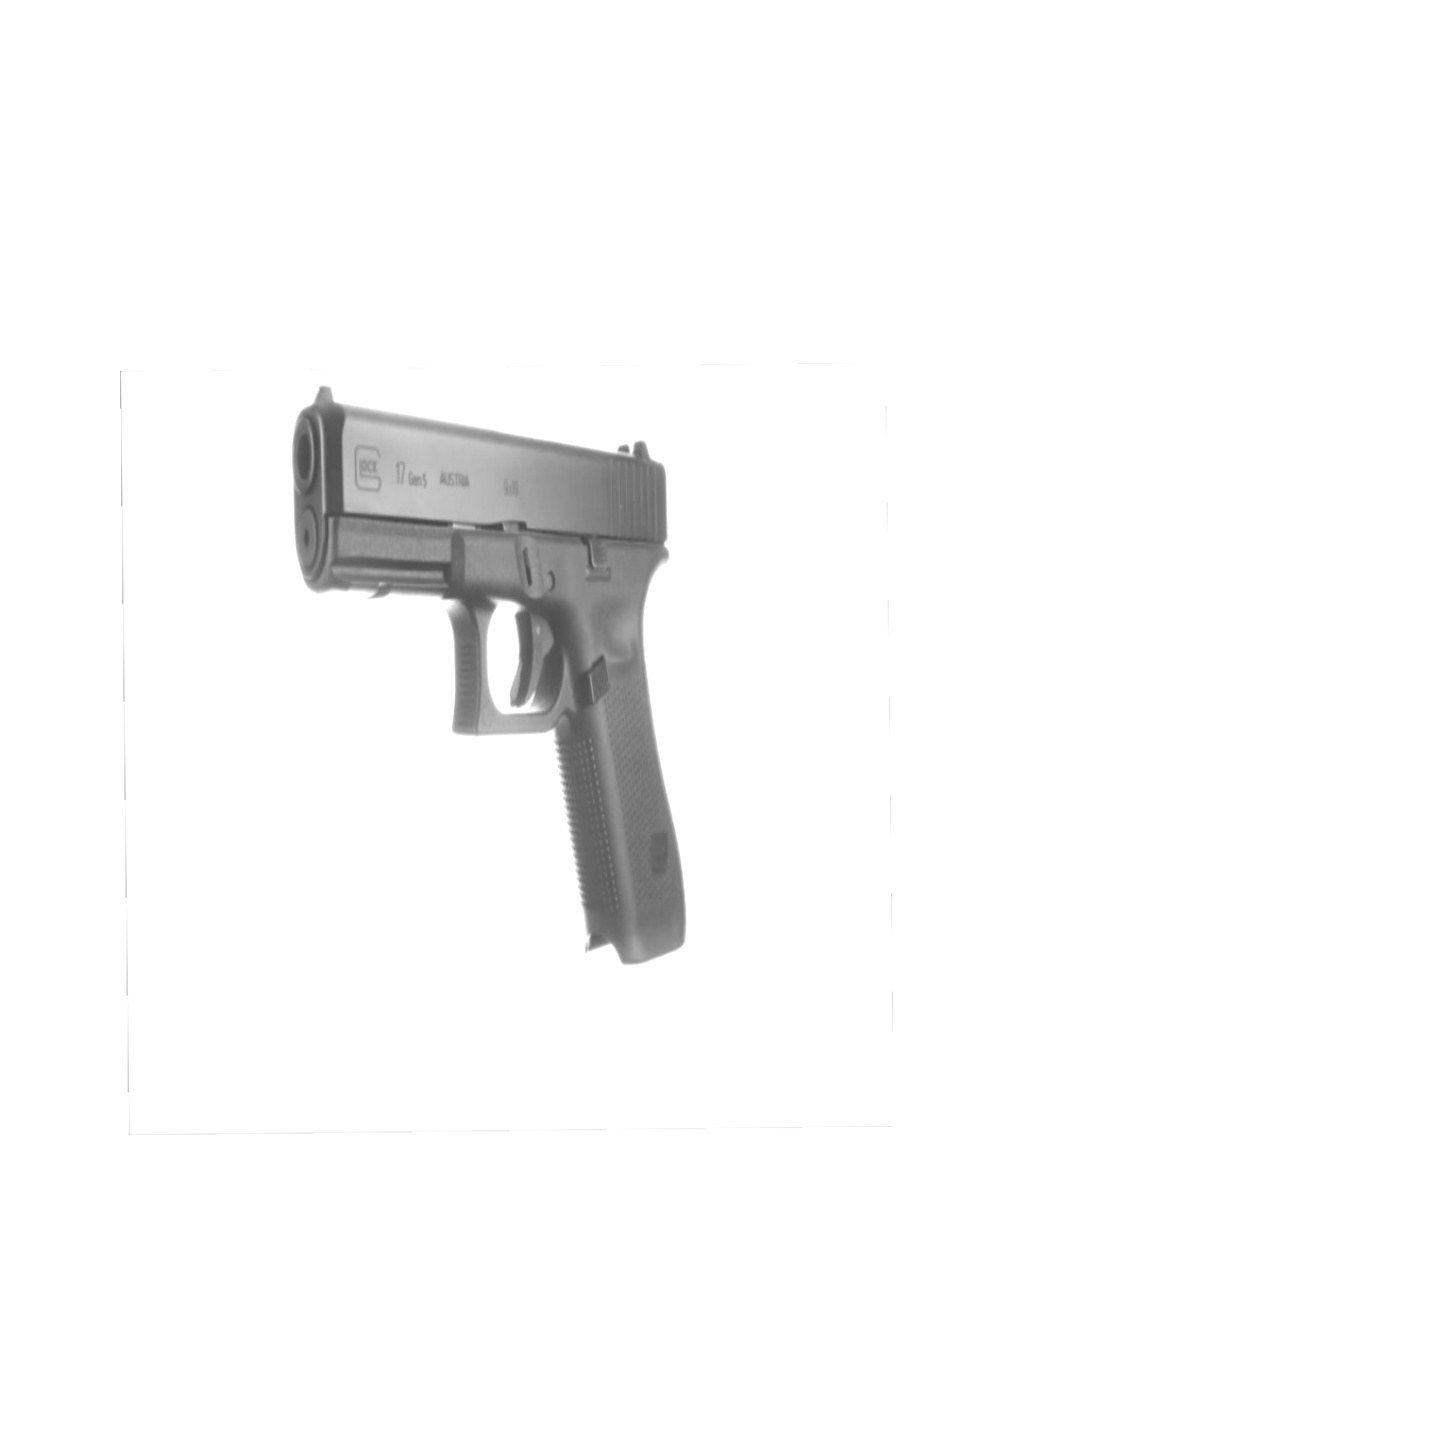gun: (282, 382, 695, 978)
